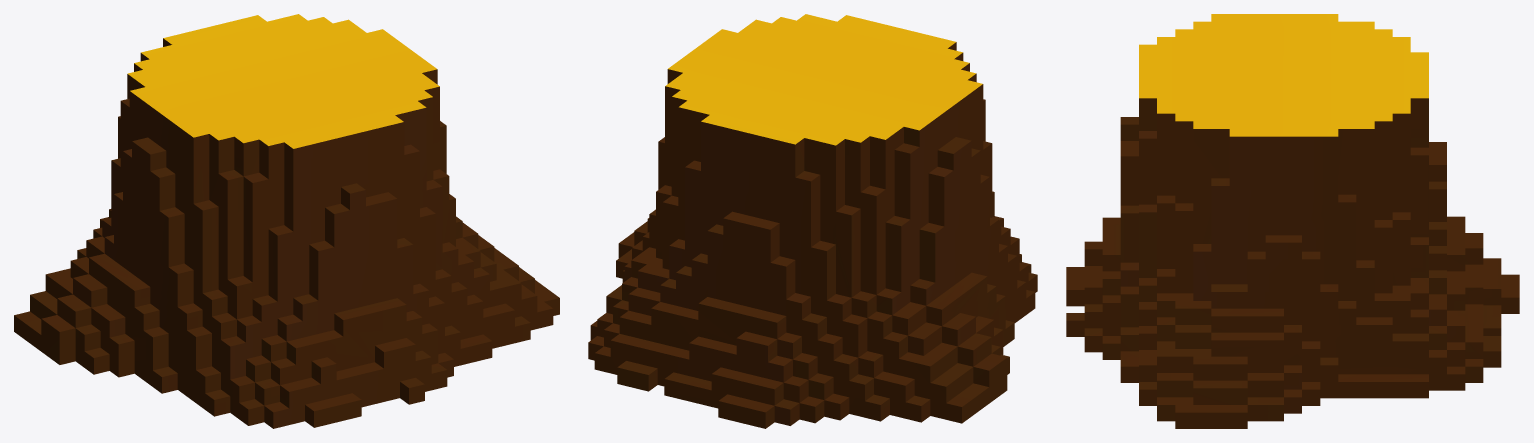
File: stump0.glb
3 renders of one model, left to right at view 1: azimuth 30°, elevation 25°; view 2: azimuth 150°, elevation 25°; view 3: azimuth 270°, elevation 25°, orthographic.
Parts seen in each view (by area): view 1: geometry_0; view 2: geometry_0; view 3: geometry_0.
Boxes of the visible parts, box(x1,y1,x2,y2) form: geometry_0: box(14, 14, 559, 428); geometry_0: box(588, 14, 1037, 428); geometry_0: box(1066, 14, 1519, 428).
Bounding box in the file's own units: 2.53 × 1.4 × 2.34.
1 material, 1 textured.
